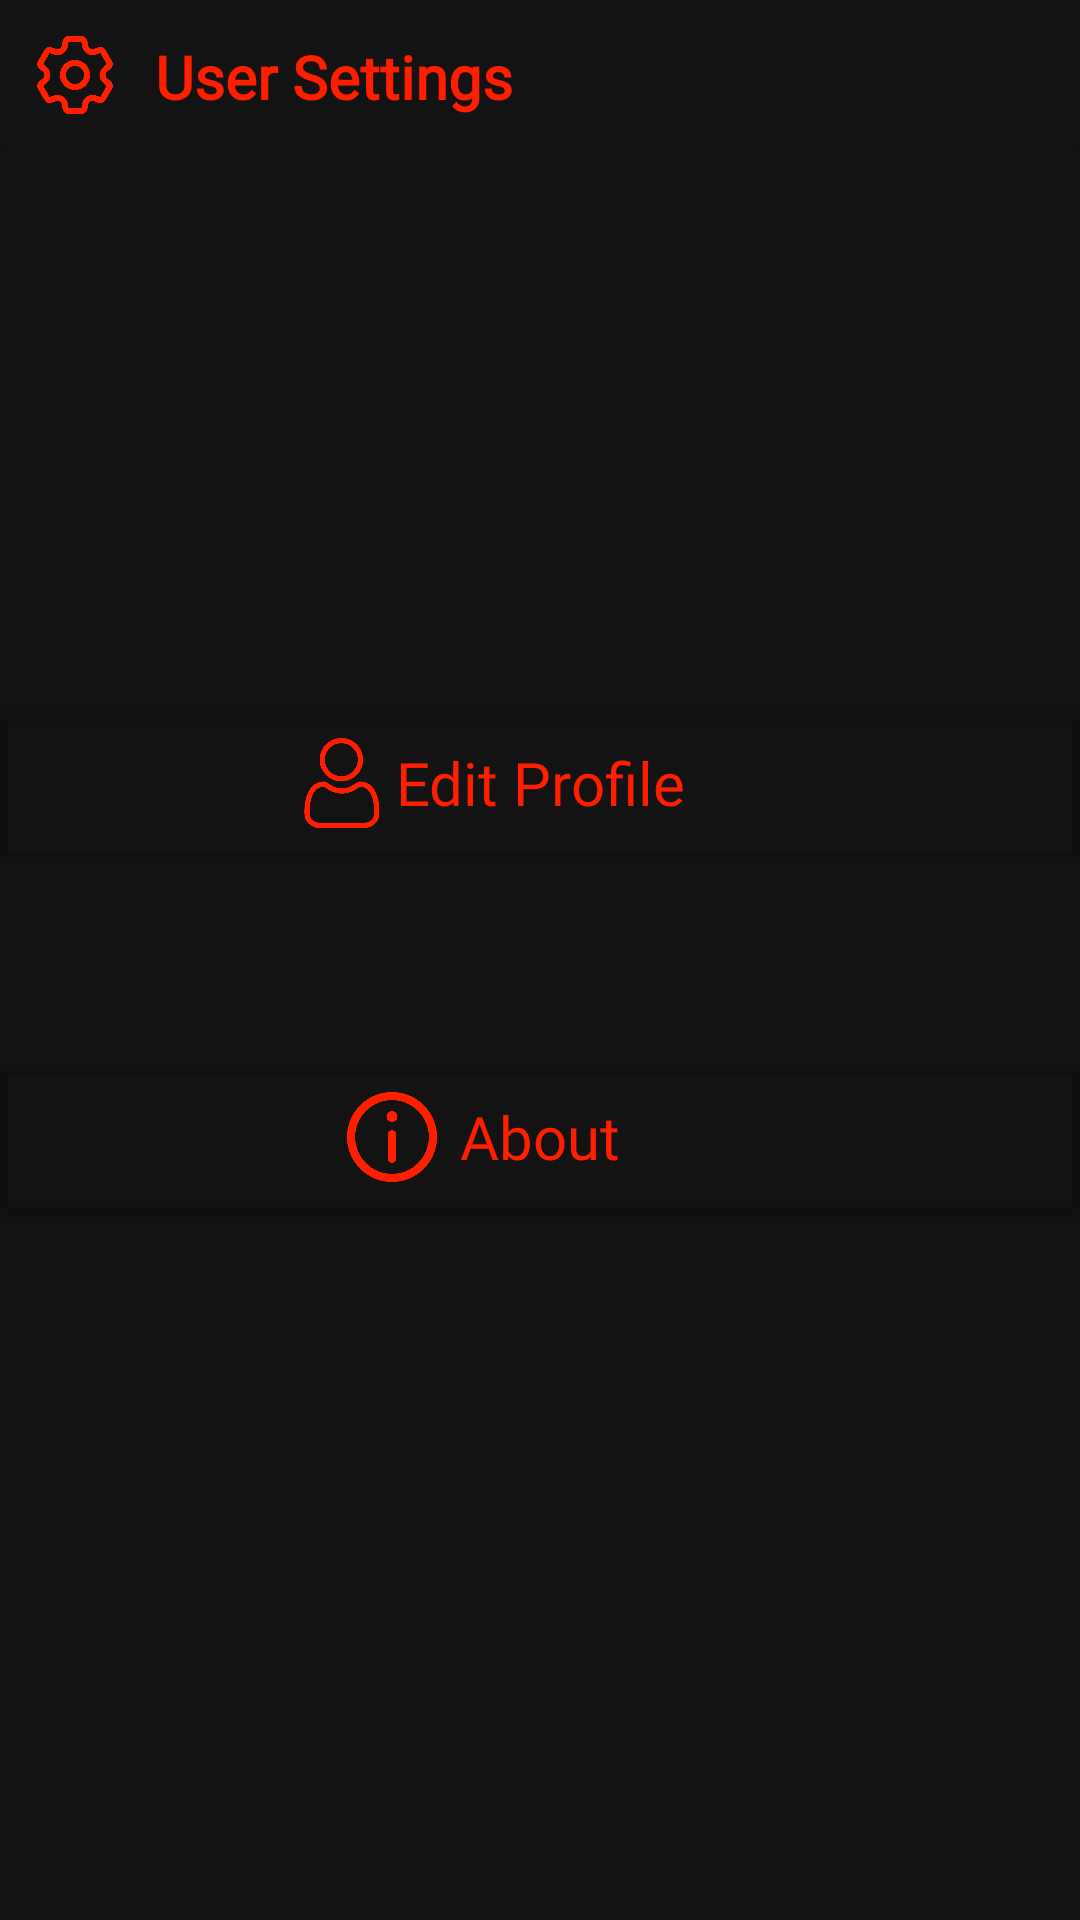

Locate icon controls on the screen. Image size 1080w x 1920h, boxes as box=[x1, y1, x2, y2].
information: box=[347, 1092, 437, 1182]
user: box=[304, 738, 380, 828]
